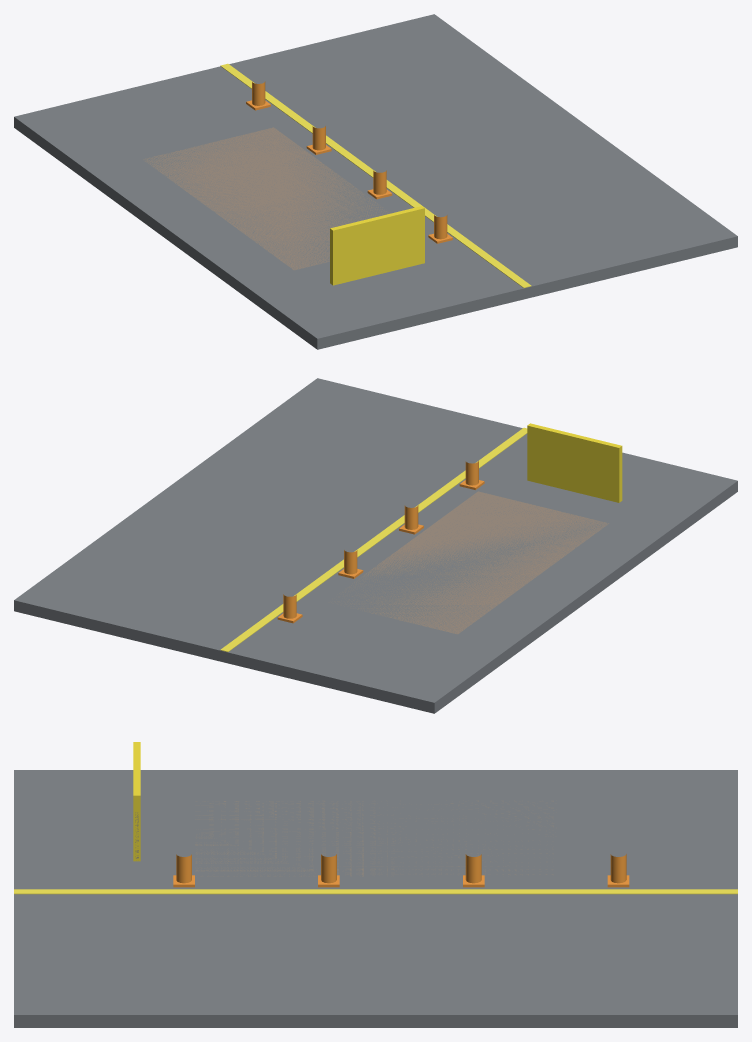
The model's file is road_excavation_site.glb.
3 views of the same model, one above another, from view 1: azimuth 30°, elevation 25°; view 2: azimuth 150°, elevation 25°; view 3: azimuth 270°, elevation 25° (orthographic). The views are drawn at different scales.
Visible parts, largest first — view 1: RoadAsphaltSurface, MilledBitumenTrench, WarningSignboard, LaneMarkingYellow; view 2: RoadAsphaltSurface, MilledBitumenTrench, WarningSignboard, LaneMarkingYellow; view 3: RoadAsphaltSurface, LaneMarkingYellow, MilledBitumenTrench, WarningSignboard.
Boxes of the visible parts, x1,y1,x2,y2 form: RoadAsphaltSurface: [14, 14, 737, 349]; MilledBitumenTrench: [143, 127, 390, 270]; WarningSignboard: [330, 206, 424, 285]; LaneMarkingYellow: [220, 63, 531, 287]; RoadAsphaltSurface: [14, 378, 737, 713]; MilledBitumenTrench: [331, 491, 608, 634]; WarningSignboard: [527, 423, 622, 502]; LaneMarkingYellow: [220, 427, 527, 651]; RoadAsphaltSurface: [14, 770, 737, 1027]; LaneMarkingYellow: [14, 889, 737, 894]; MilledBitumenTrench: [195, 800, 553, 876]; WarningSignboard: [133, 742, 140, 861].
Bounding box in the file's own units: 16 × 2.42 × 20.
